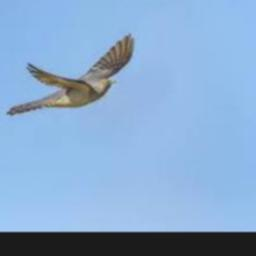Cuckoo: (5, 34, 134, 115)
